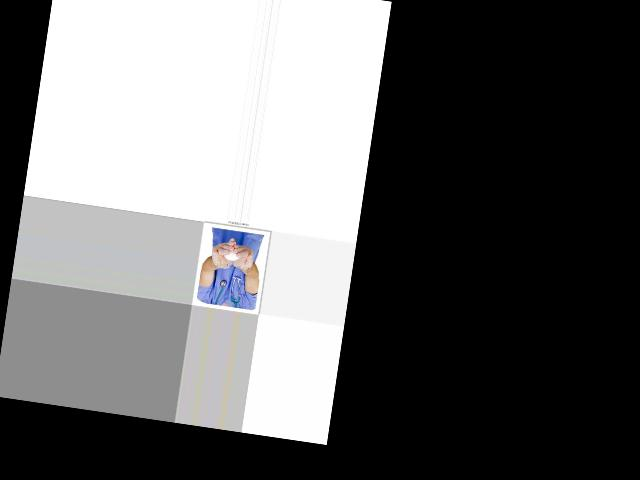egg: (224, 249, 240, 261)
